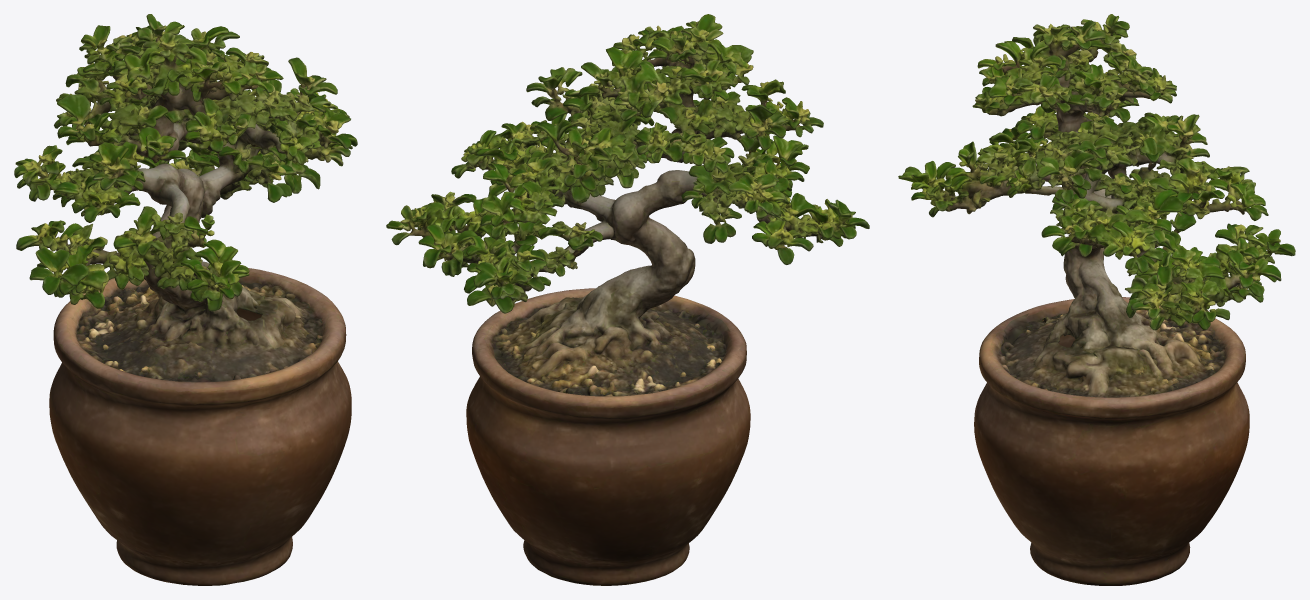
File: bonzai.glb
The picture shows the model from 3 angles, left to right: view 1: azimuth 30°, elevation 25°; view 2: azimuth 150°, elevation 25°; view 3: azimuth 270°, elevation 25°; orthographic projection. The views are drawn at different scales.
Bounding box in the file's own units: 0.7544 × 1 × 0.7181.
Materials: 1 (1 with a texture image).
